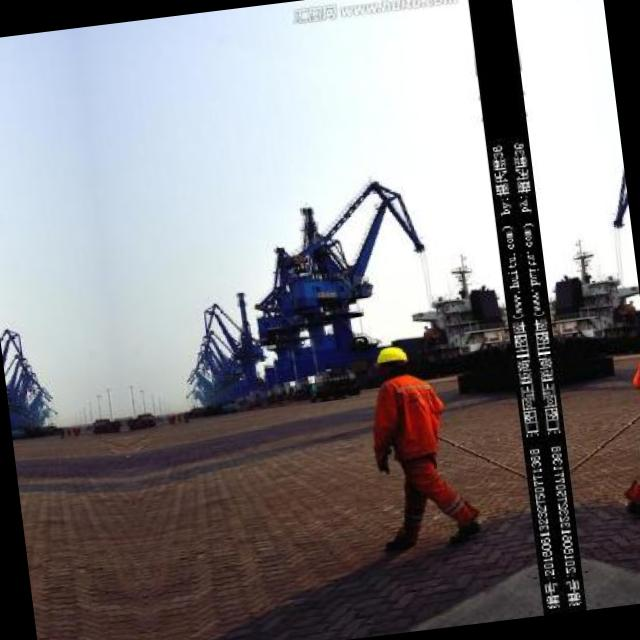helmet: (368, 339, 416, 382)
